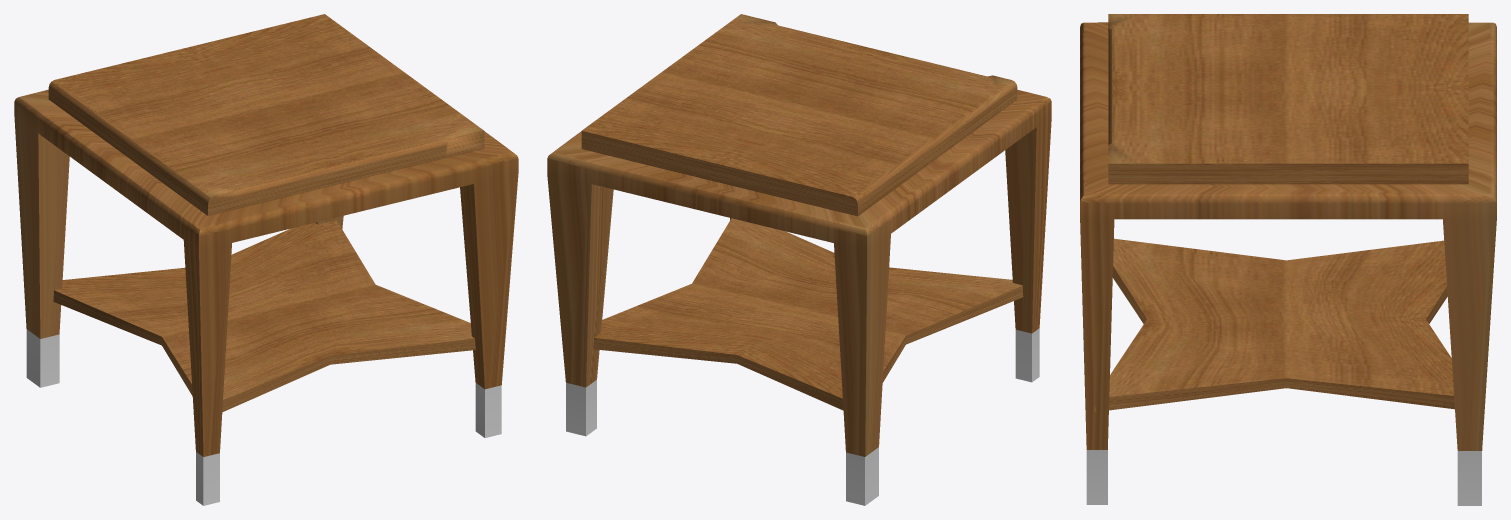
The model's file is stair.fbx.
3 renders of one model, left to right at view 1: azimuth 30°, elevation 25°; view 2: azimuth 150°, elevation 25°; view 3: azimuth 270°, elevation 25°, orthographic. The views are drawn at different scales.
Parts seen in each view (by area): view 1: pCube51; view 2: pCube51; view 3: pCube51.
Part boxes in pixels (x1,y1,x2,y2): pCube51: [14, 14, 518, 505]; pCube51: [547, 14, 1051, 505]; pCube51: [1080, 14, 1496, 505].
Bounding box in the file's own units: 66.48 × 59.29 × 66.48.
Materials: 2 (1 with a texture image).
